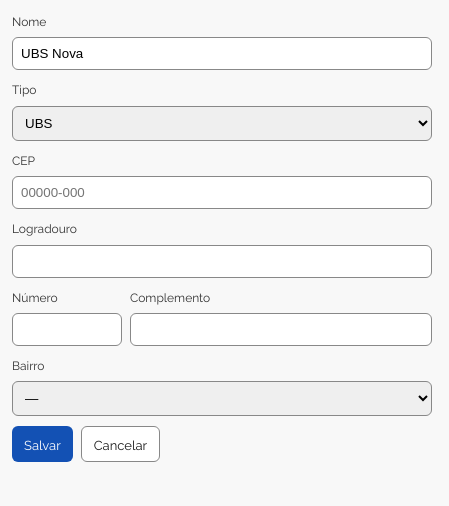
UnitForm — CEP › casa o bairro sem diferenciar maiúsculas e acentos
Type "80010000" into the field labelled "CEP".
click(222, 193); type("80010000")  # box [12,176,432,209]
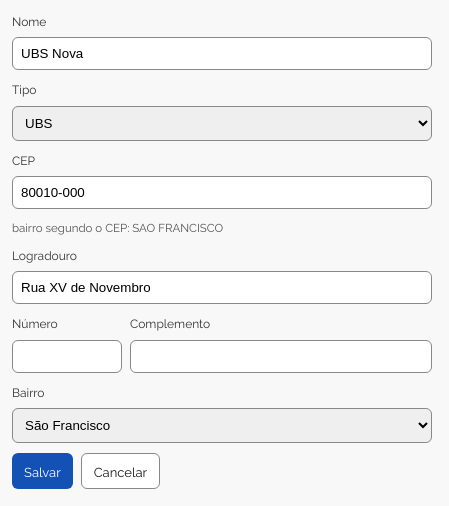
Now the text "bairro segundo o CEP: SAO FRANCISCO" is shown, box [12,219,223,235]
Now the dropdown labelled "Bairro" shows "São Francisco", box [12,408,432,443]
